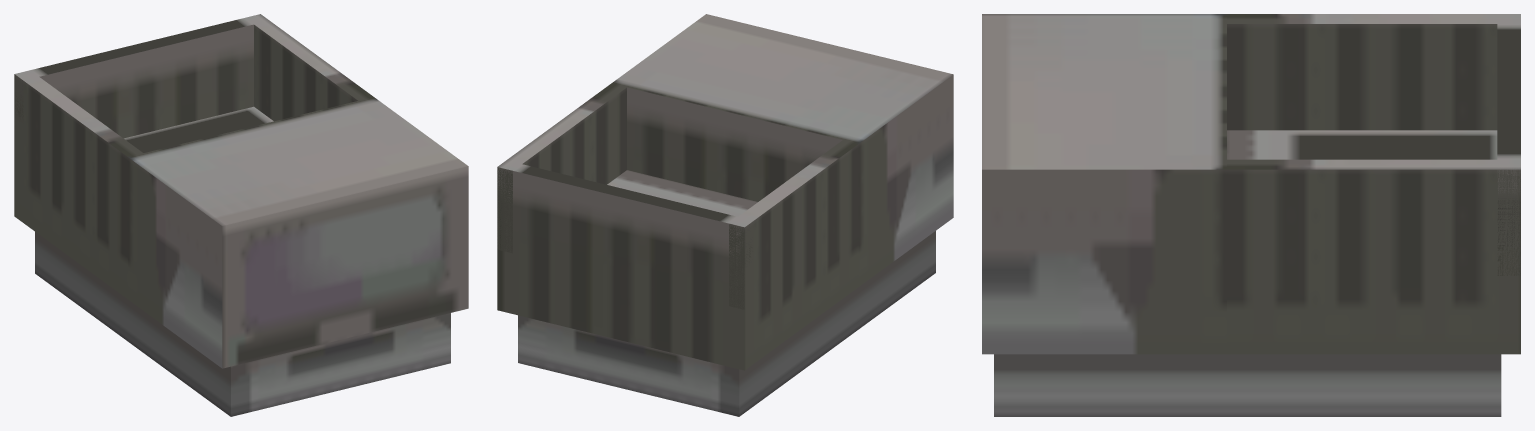
The model's file is Building_AncientHermeticCrate__Open.glb.
The picture shows the model from 3 angles, left to right: view 1: azimuth 30°, elevation 25°; view 2: azimuth 150°, elevation 25°; view 3: azimuth 270°, elevation 25°; orthographic projection. The views are drawn at different scales.
Visible parts, largest first — view 1: AncientHermeticCrate; view 2: AncientHermeticCrate; view 3: AncientHermeticCrate.
Boxes of the visible parts, x1=… form: AncientHermeticCrate: x1=14, y1=14, x2=468, y2=416; AncientHermeticCrate: x1=497, y1=14, x2=953, y2=416; AncientHermeticCrate: x1=982, y1=14, x2=1520, y2=416.
Bounding box in the file's own units: 0.94 × 0.72 × 1.38.
1 material, 1 textured.
